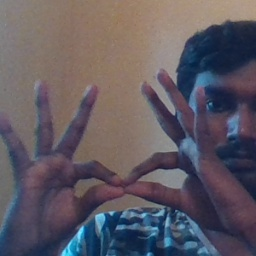B: (42, 119, 204, 224)
